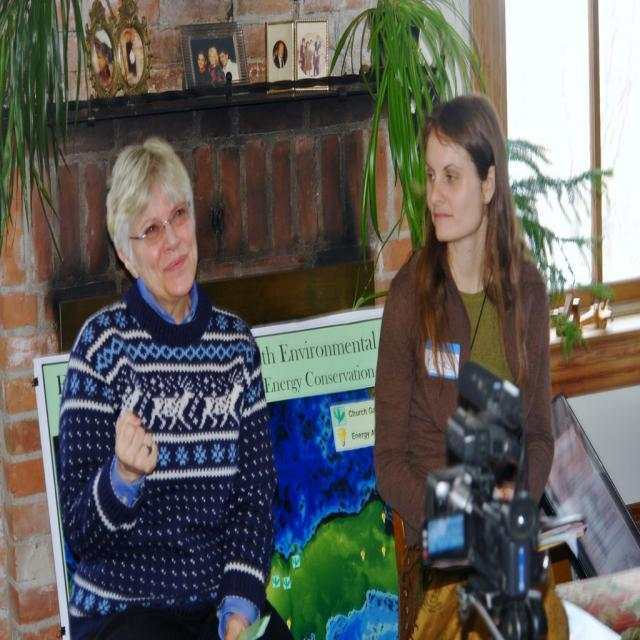closed-mouth: (164, 257, 189, 272), (432, 207, 452, 224)
